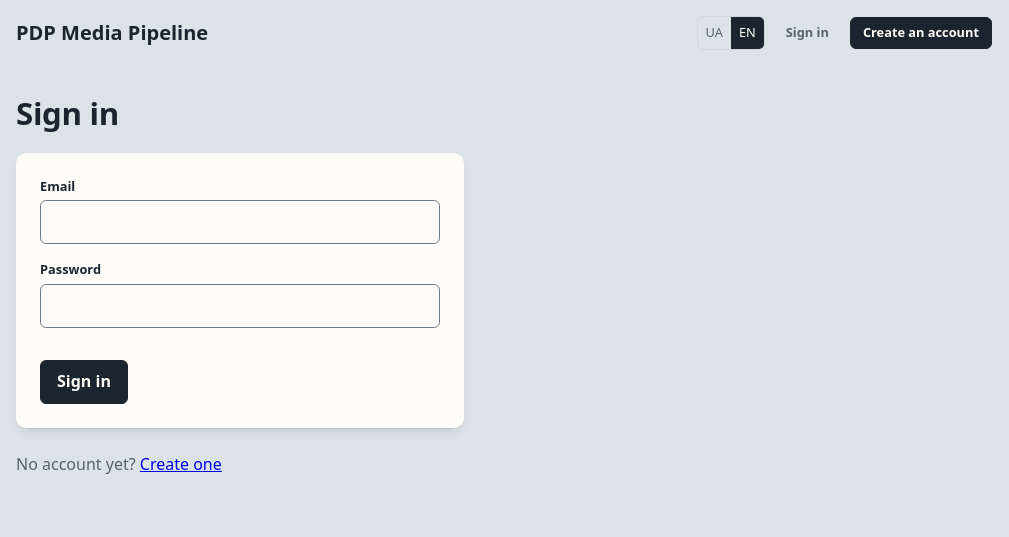
Scenario: signing in › drops the wrong-password message when a later attempt fails its own checks
Type "dev@example.com" into the field labelled "Email" at (240, 222), box [40,200,440,244]
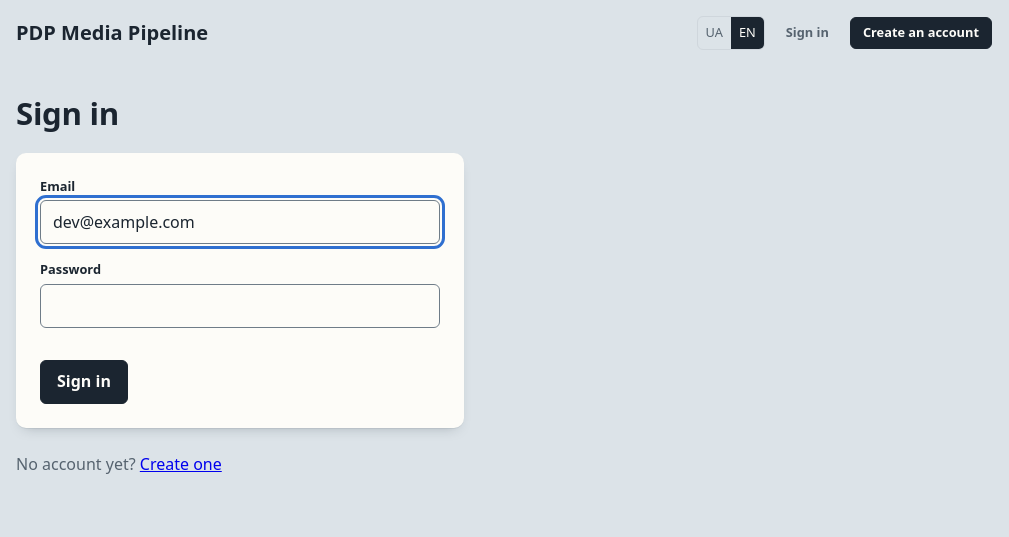
Type "not the password" into the password field labelled "Password" at (240, 306), box [40,284,440,328]
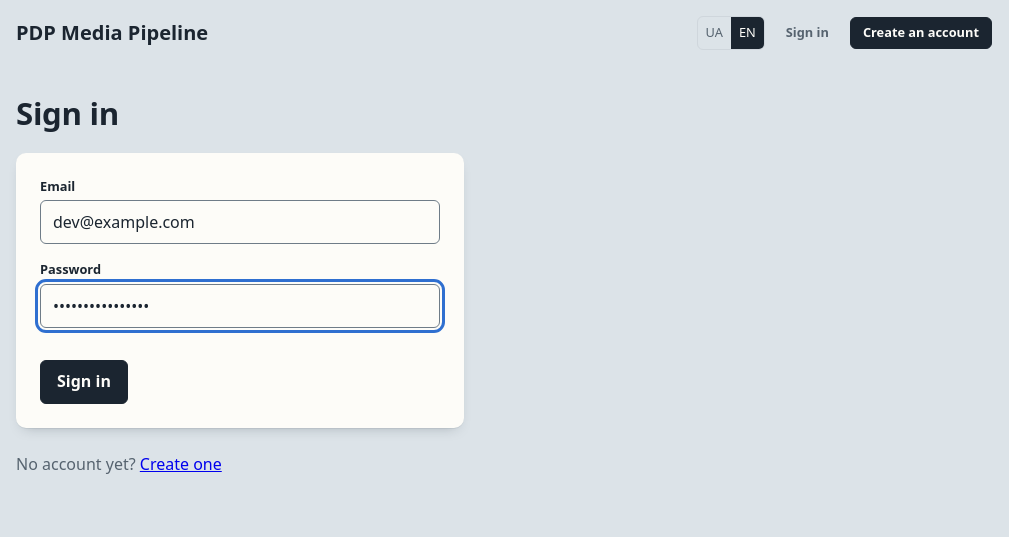
Click the button "Sign in" at (84, 382), box [40,360,128,404]
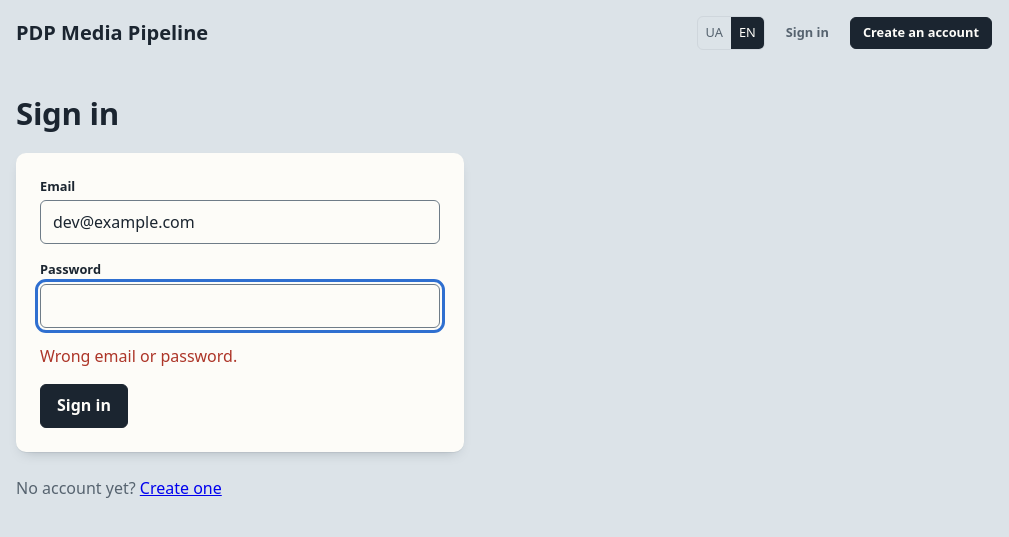
Now the text "Wrong email or password." is shown, box [40,345,237,367]
Replace the text in the field labelled "Email" with "not an email" at (240, 222), box [40,200,440,244]
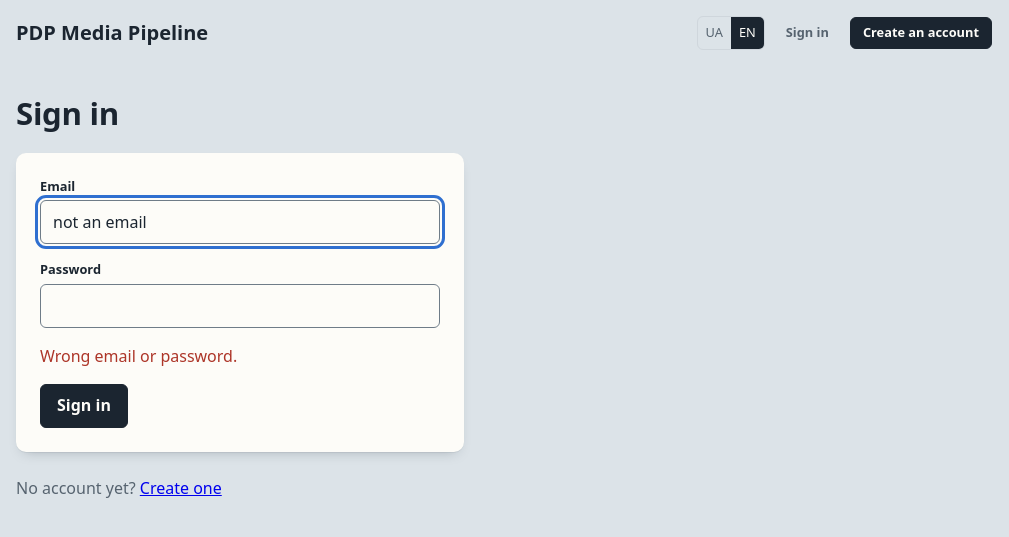
Click the button "Sign in" at (84, 406), box [40,384,128,428]
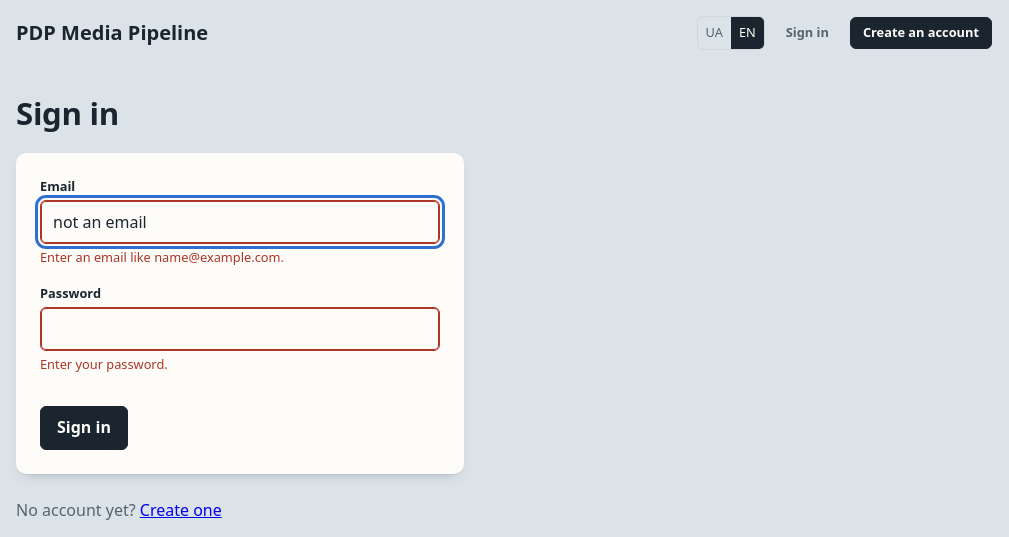
Now the text "Enter an email like name@example.com." is shown, box [40,248,284,266]
Now the text "Wrong email or password." is gone
